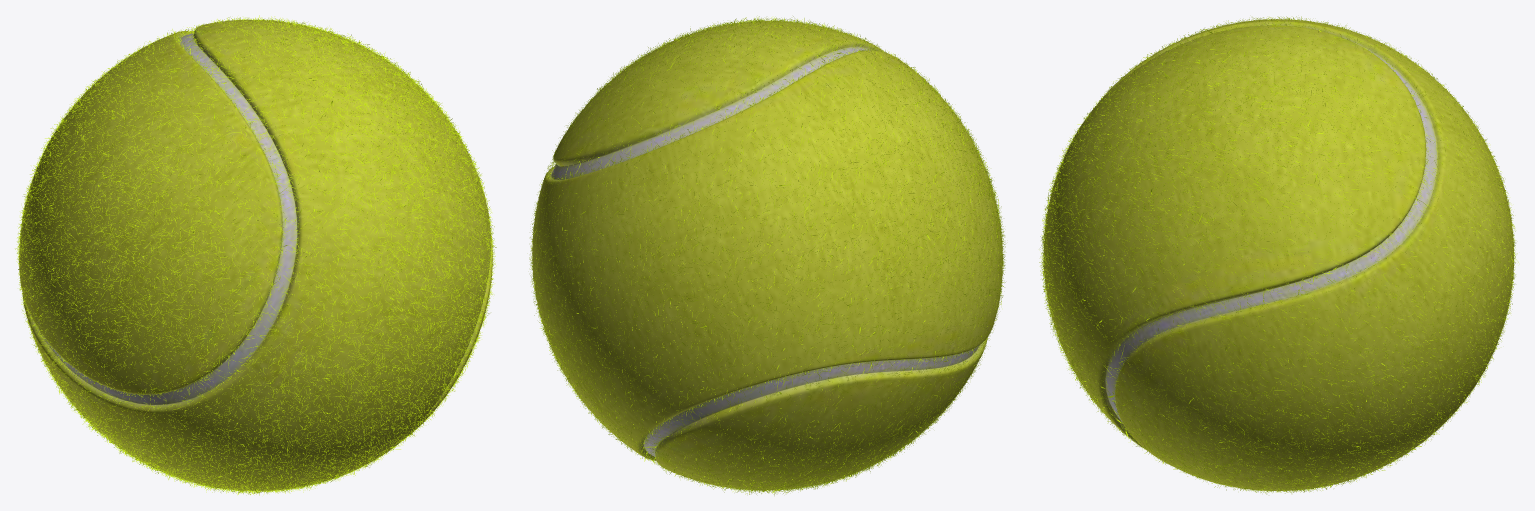
The model's file is ball_f25_s0.3.glb.
3 renders of one model, left to right at view 1: azimuth 30°, elevation 25°; view 2: azimuth 150°, elevation 25°; view 3: azimuth 270°, elevation 25°, orthographic.
Visible parts, largest first — view 1: Object_2; view 2: Object_2; view 3: Object_2.
Boxes of the visible parts, x1,y1,x2,y2 form: Object_2: [15, 15, 496, 495]; Object_2: [529, 16, 1005, 495]; Object_2: [1039, 16, 1518, 494].
Bounding box in the file's own units: 0.0668 × 0.067 × 0.067.
2 materials, 1 textured.
